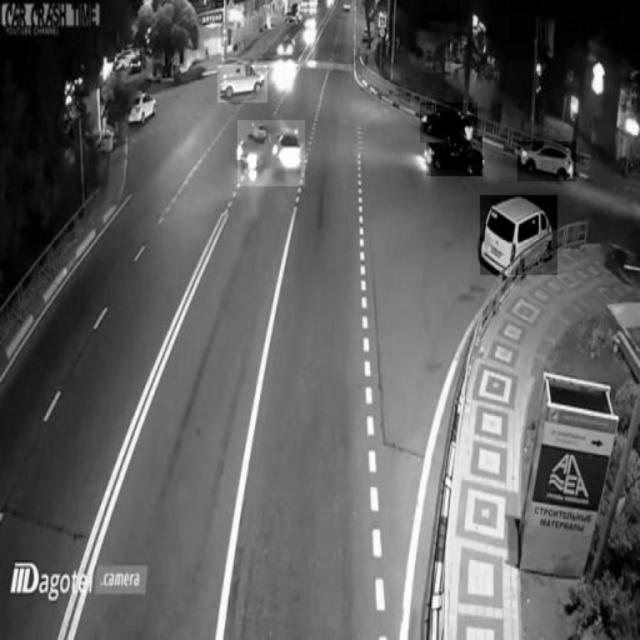accident: (238, 120, 305, 186)
vehicle: (480, 195, 557, 275), (518, 142, 576, 182), (420, 103, 477, 143), (427, 137, 483, 177), (218, 66, 268, 103)
